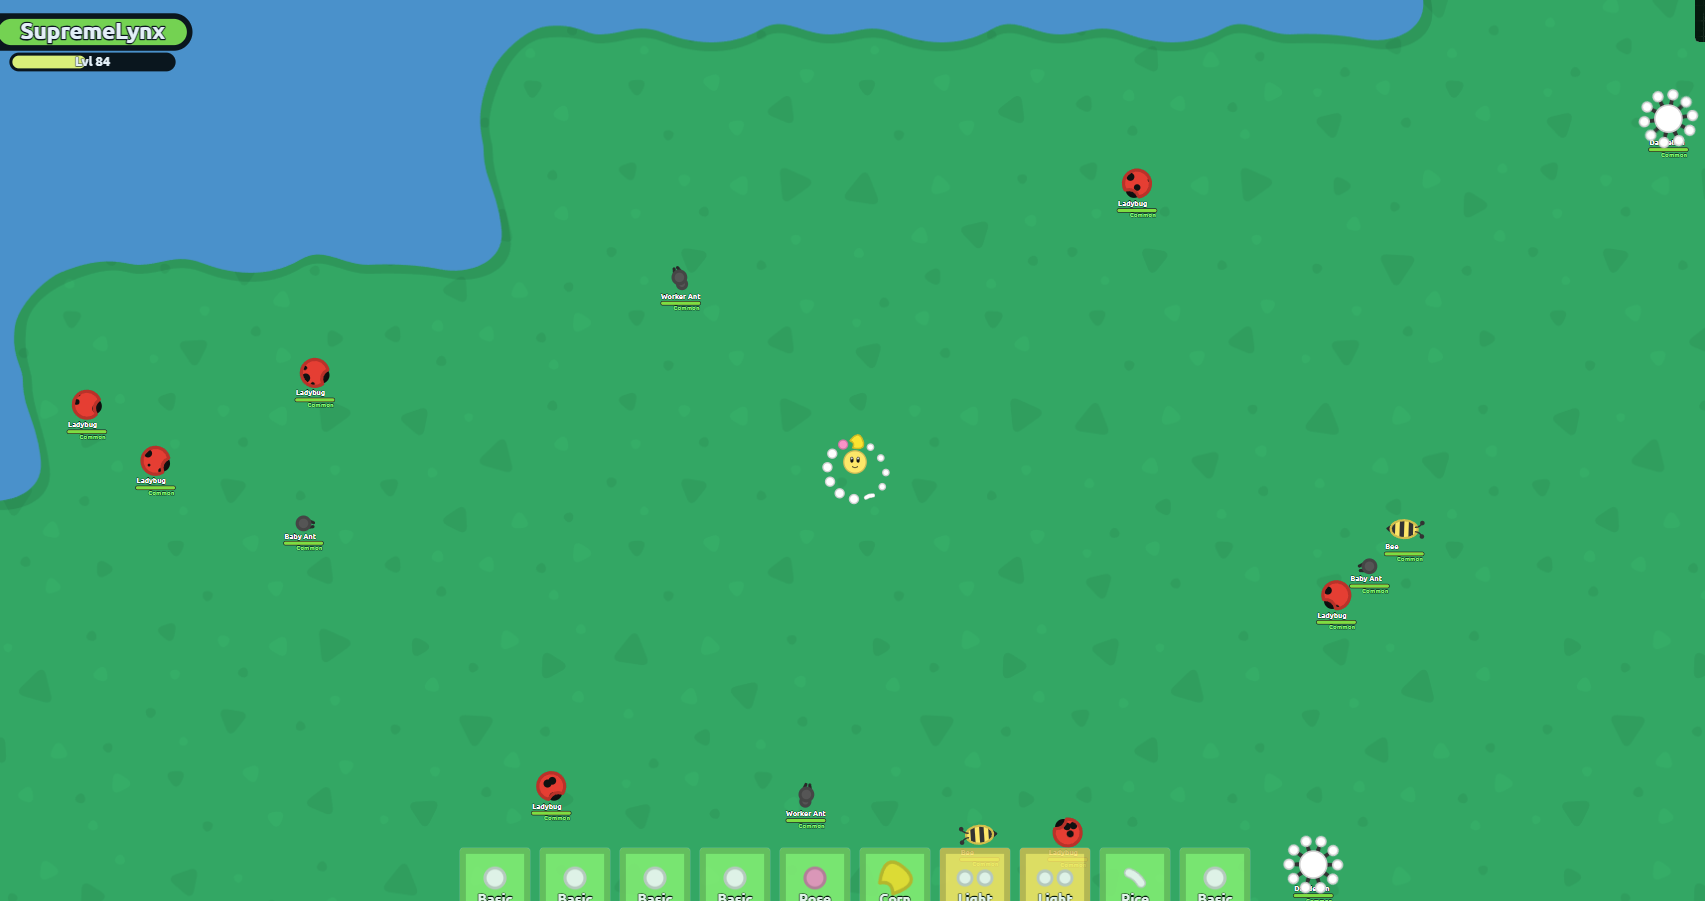Baby Ant: (292, 512, 318, 535), (1355, 557, 1380, 577)
Bee: (962, 824, 998, 846), (1386, 518, 1419, 542)
Dandelion: (1638, 88, 1699, 150), (1283, 834, 1343, 895)
Ladybug: (138, 444, 173, 479), (297, 357, 332, 392), (1049, 816, 1084, 850), (1319, 580, 1354, 613), (70, 388, 104, 421), (535, 771, 568, 804), (1119, 168, 1152, 200)
Worker Ant: (669, 263, 691, 292), (798, 784, 815, 809)
